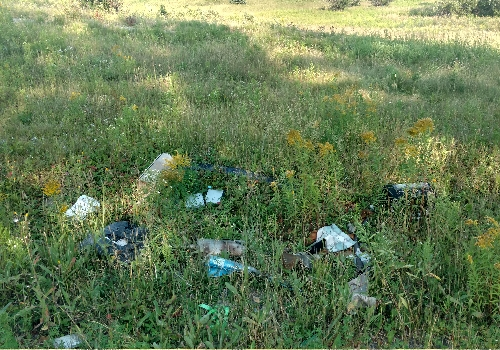trash: (59, 139, 443, 307)
